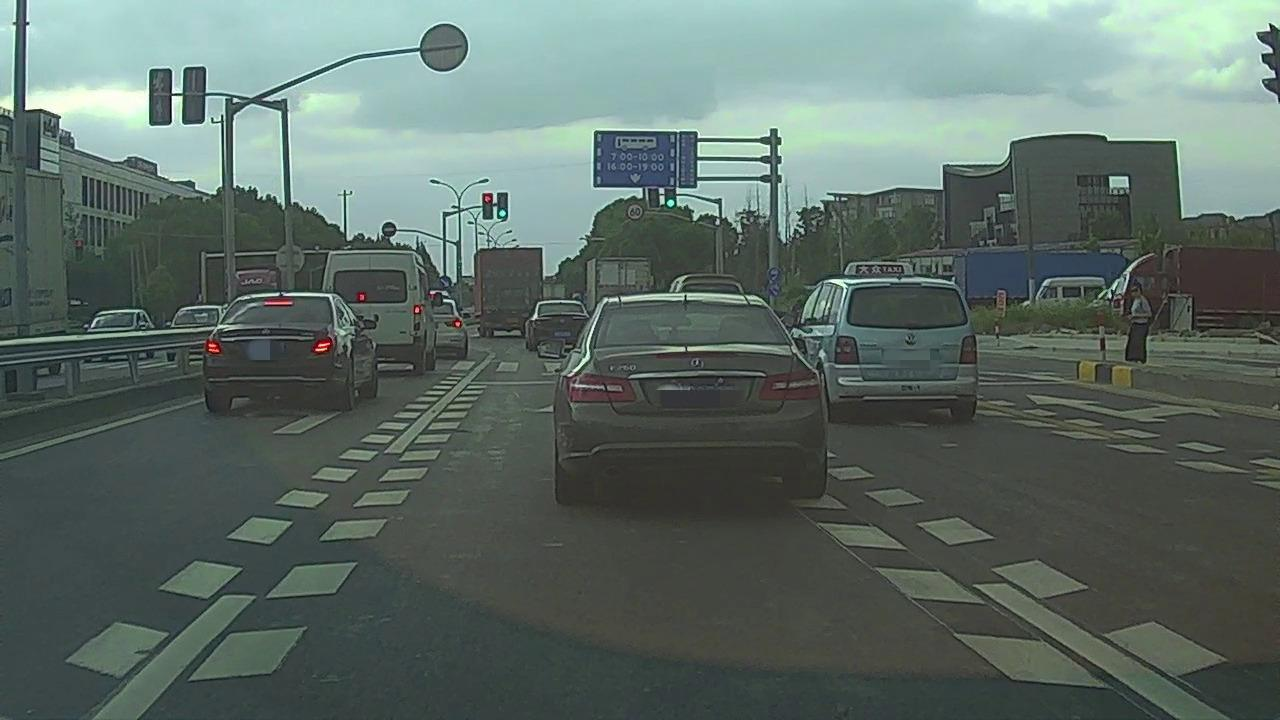traffic_light: (496, 192, 508, 221), (481, 192, 492, 221), (647, 187, 659, 209), (664, 188, 676, 209)
